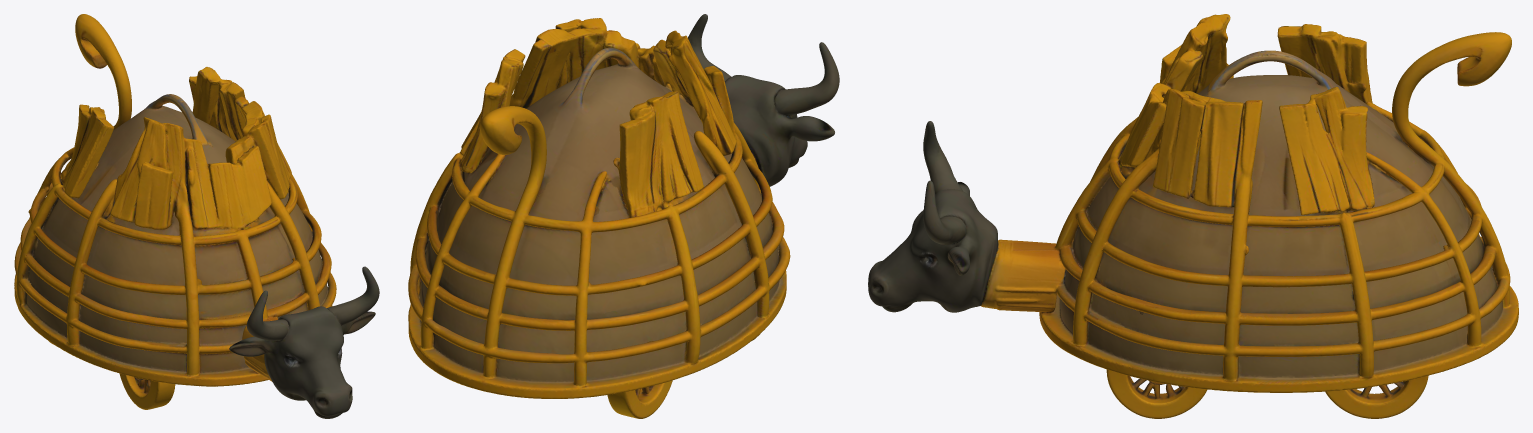
3 renders of one model, left to right at view 1: azimuth 30°, elevation 25°; view 2: azimuth 150°, elevation 25°; view 3: azimuth 270°, elevation 25°, orthographic. The views are drawn at different scales.
Parts seen in each view (by area): view 1: tripo_node_3e2ca4d9-2028-4905-8291-bb5c4870b4ac; view 2: tripo_node_3e2ca4d9-2028-4905-8291-bb5c4870b4ac; view 3: tripo_node_3e2ca4d9-2028-4905-8291-bb5c4870b4ac.
Part boxes in pixels (x1=…): tripo_node_3e2ca4d9-2028-4905-8291-bb5c4870b4ac: x1=14, y1=14, x2=379, y2=418; tripo_node_3e2ca4d9-2028-4905-8291-bb5c4870b4ac: x1=408, y1=14, x2=839, y2=418; tripo_node_3e2ca4d9-2028-4905-8291-bb5c4870b4ac: x1=868, y1=14, x2=1518, y2=418.
Size of the model in its own units: 0.5613 by 0.5681 by 1.
1 material, 1 textured.
